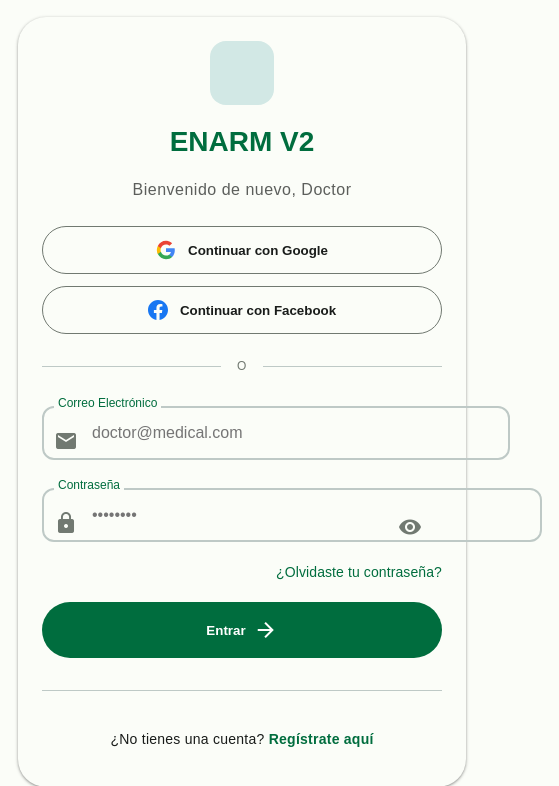
Test: V2Login › shows password toggle button
Click the button named "Mostrar contraseña" at [410, 527], box left=390, top=507, right=430, bottom=547
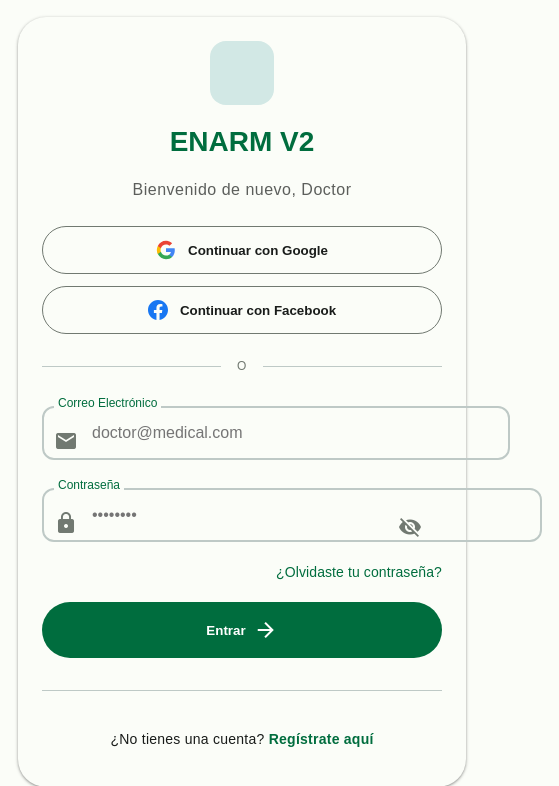
Check: the button named "Ocultar contraseña" is shown, box left=390, top=507, right=430, bottom=547
